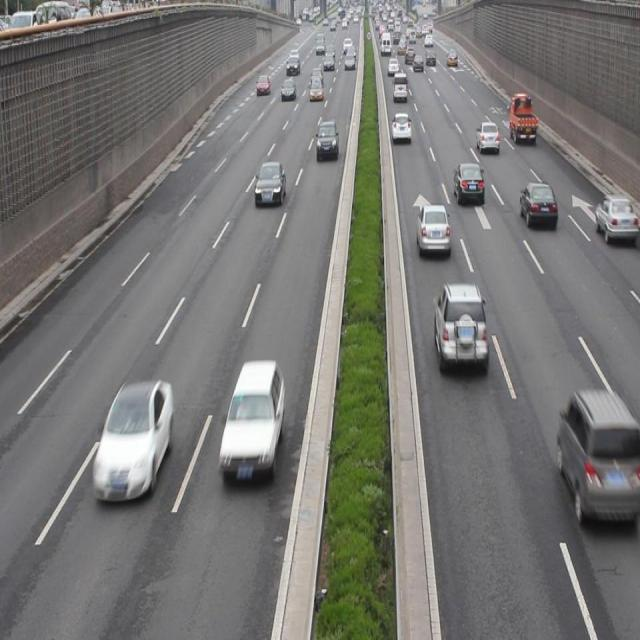bus: (507, 95, 534, 142)
car: (92, 379, 174, 503), (220, 357, 284, 484), (433, 280, 488, 374), (594, 195, 640, 240), (414, 202, 449, 258), (519, 182, 555, 232), (253, 156, 283, 210), (451, 157, 484, 206), (473, 118, 498, 156), (316, 120, 336, 160), (390, 111, 410, 144)
truck: (556, 389, 640, 528)
